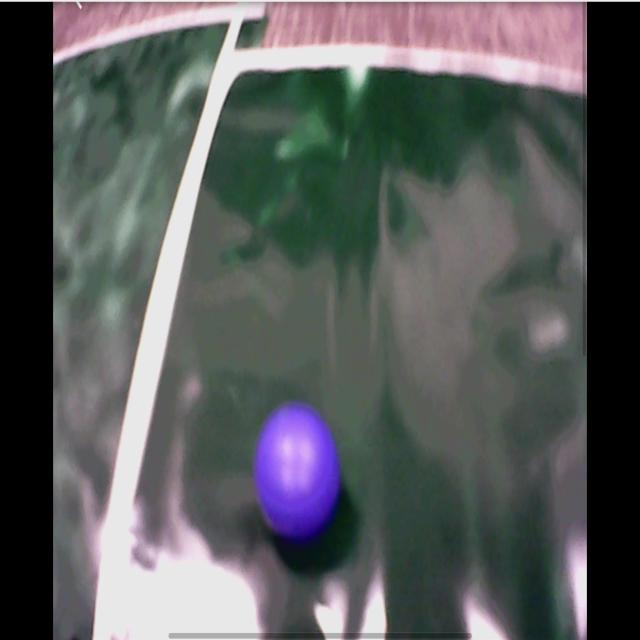ball: (256, 402, 341, 542)
